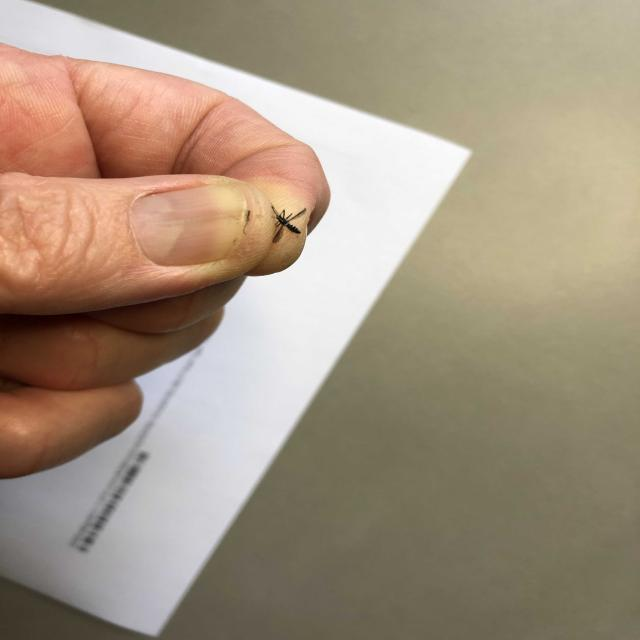albopictus: (233, 192, 309, 242)
